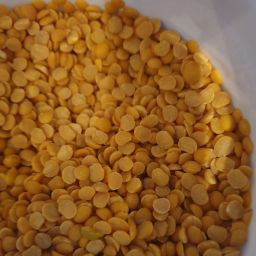Pigeon Pea(toor daal): (3, 7, 241, 256), (29, 37, 158, 256)
